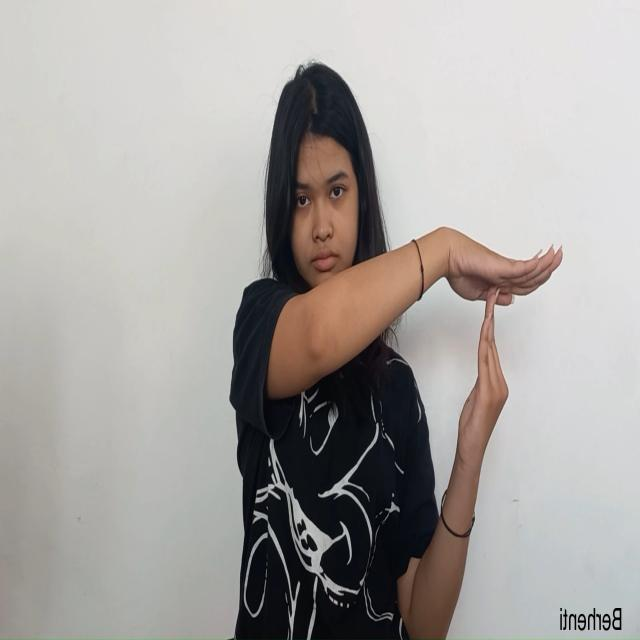Berhenti -BISINDO-: (438, 224, 564, 484)
